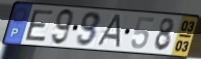5: (130, 16, 156, 50)
8: (154, 17, 177, 52)
9: (75, 10, 103, 48), (50, 8, 75, 47)
A: (94, 14, 123, 50)
E: (24, 9, 55, 43)
